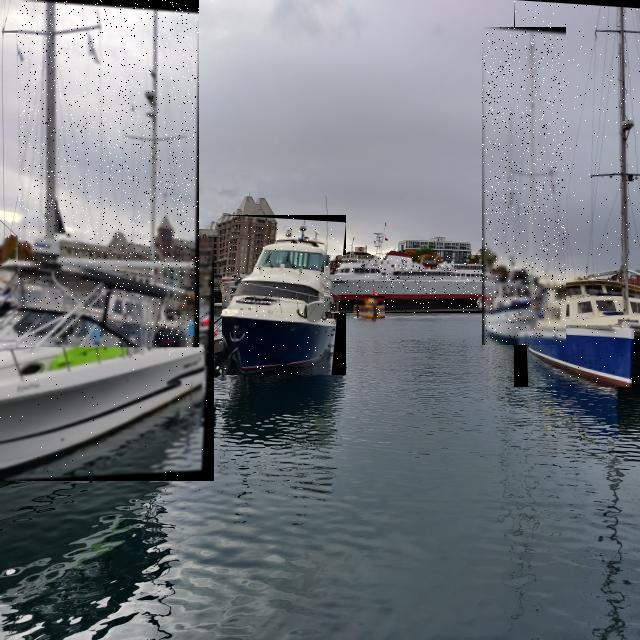boat: (18, 0, 199, 347), (0, 238, 214, 481), (514, 0, 640, 387), (482, 27, 566, 345), (222, 215, 346, 375), (324, 255, 503, 313), (357, 296, 385, 318)
